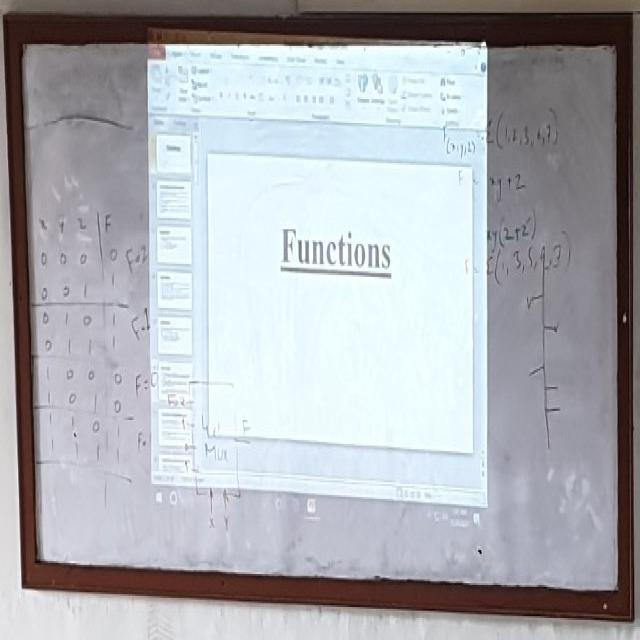Slide: (147, 30, 489, 536)
White-board: (15, 24, 629, 613)
